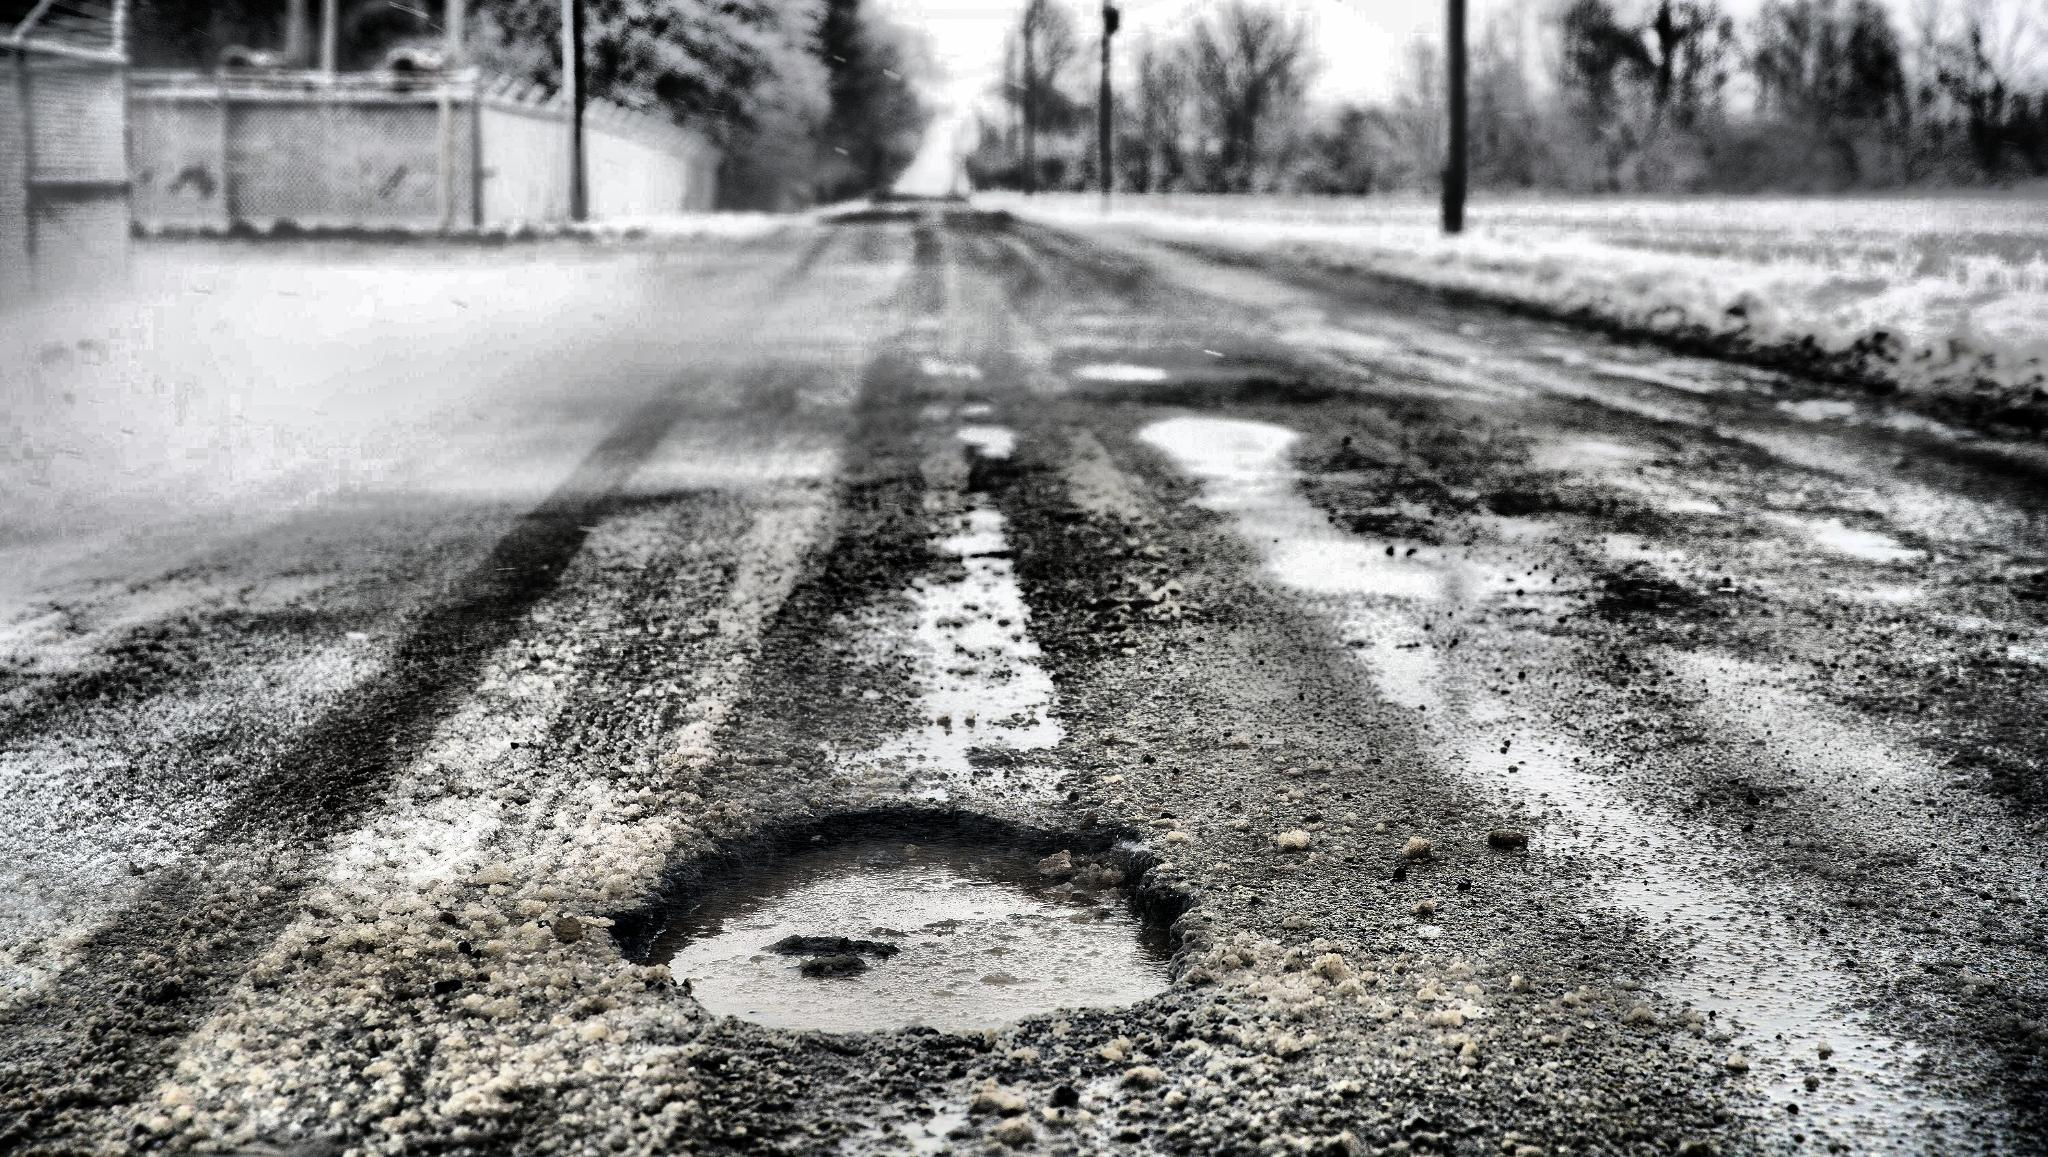pothole: (615, 786, 1208, 1067)
